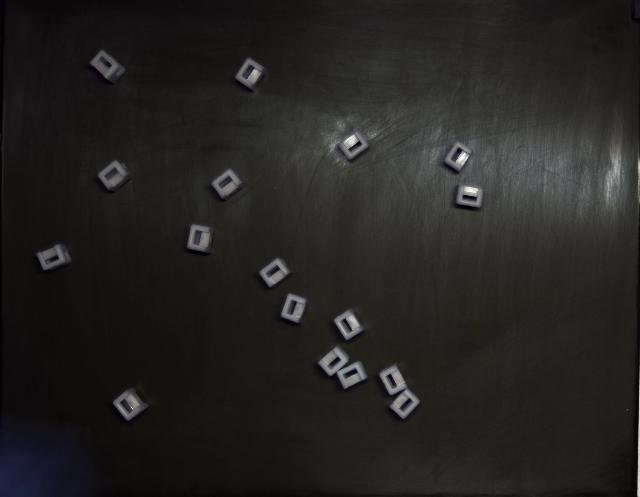fourth_side: (90, 50, 125, 84), (112, 389, 149, 421), (98, 160, 134, 191), (211, 169, 245, 200), (235, 58, 266, 91), (36, 244, 71, 271), (259, 259, 291, 288), (339, 131, 369, 160), (445, 141, 472, 172), (188, 224, 215, 254), (456, 185, 484, 208)
